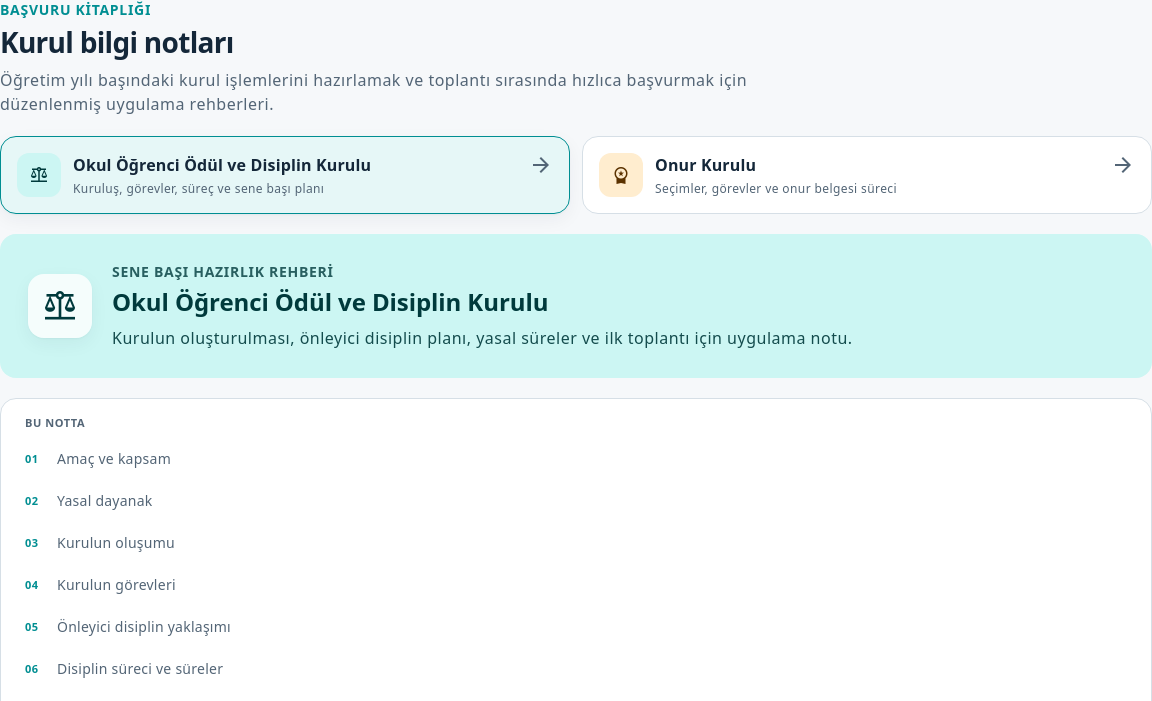
BilgiNotlariPage › Onur Kurulu bilgi notuna geçer
What coordinates should you click on to do the following:
click the link "Onur Kurulu Seçimler, görevler ve onur belgesi süreci"
I would click on:
 (621, 175)
Its box is [582,136,1151,214].
(page scrolled)
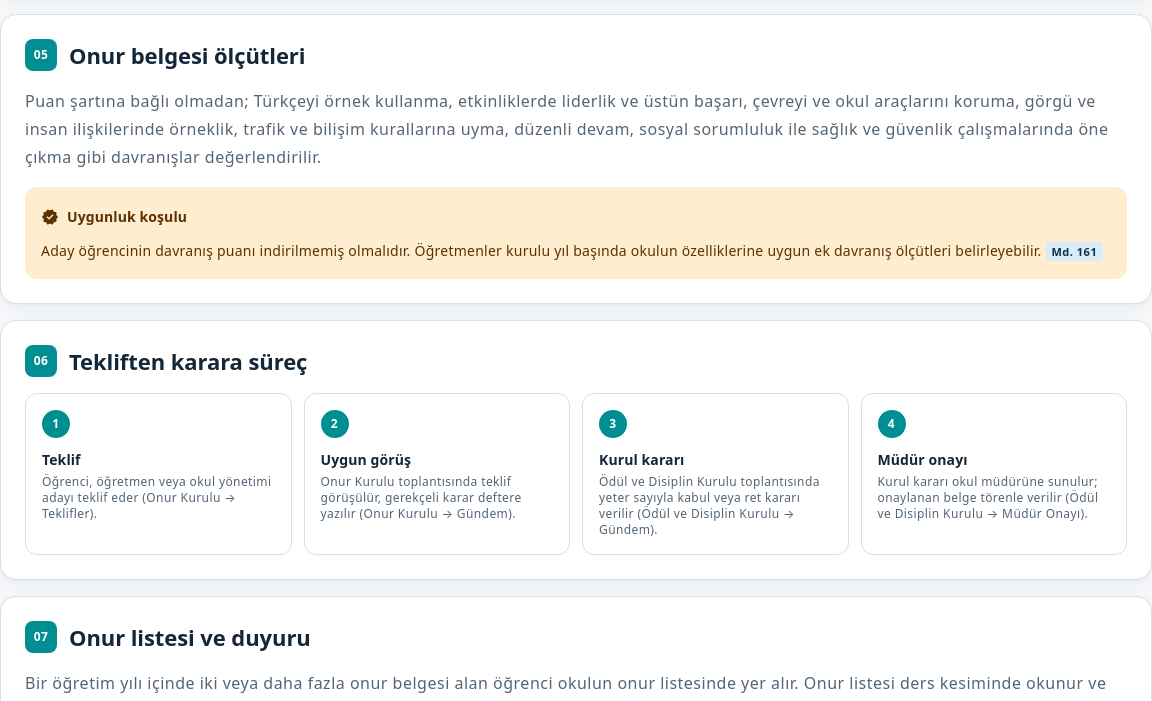
Expected: the heading "Tekliften karara süreç" is shown, [69,345,307,375]
